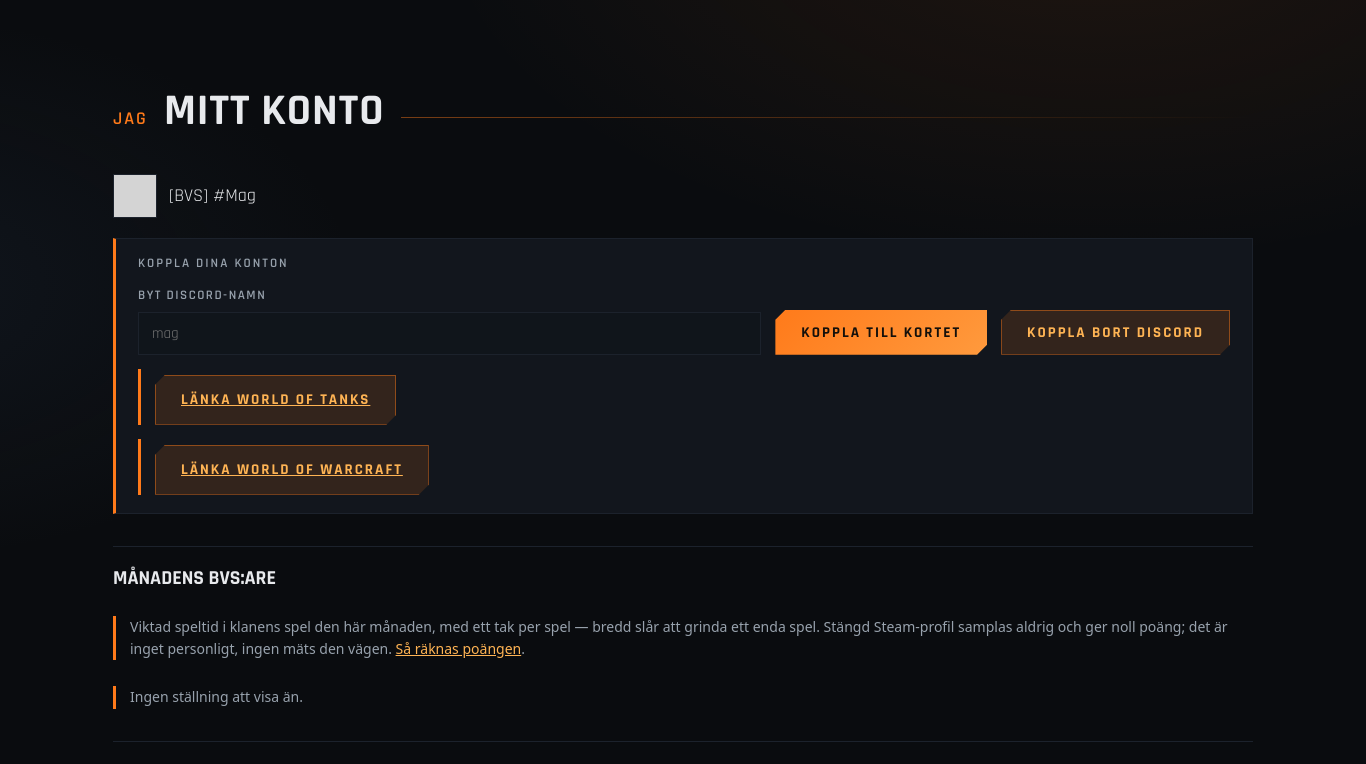
Test: unlinking a Discord name › says so when the server refused to unlink
Click the button "Koppla bort Discord" at (1116, 332), box top-left (1001, 310), bottom-right (1230, 355)
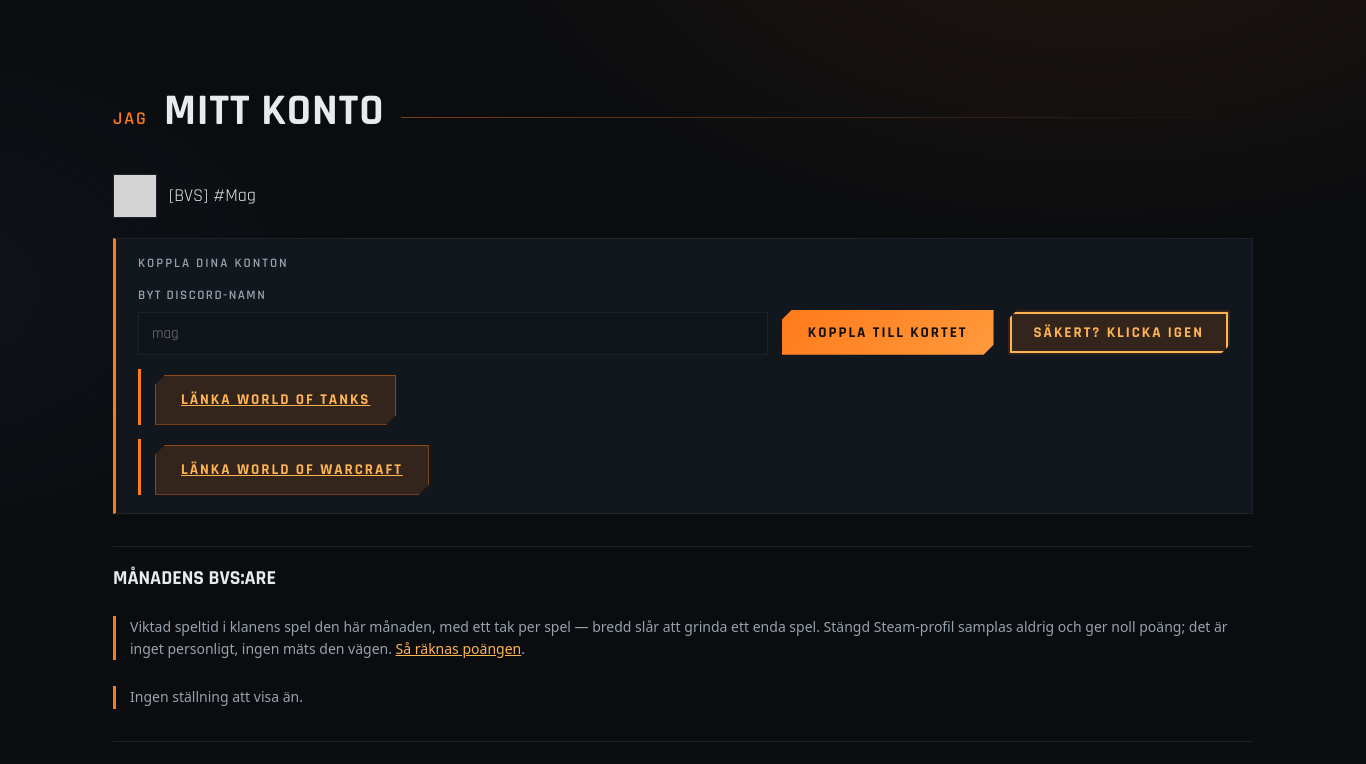
Click the button named "Koppla bort Discord" at (1119, 332), box top-left (1008, 310), bottom-right (1230, 355)
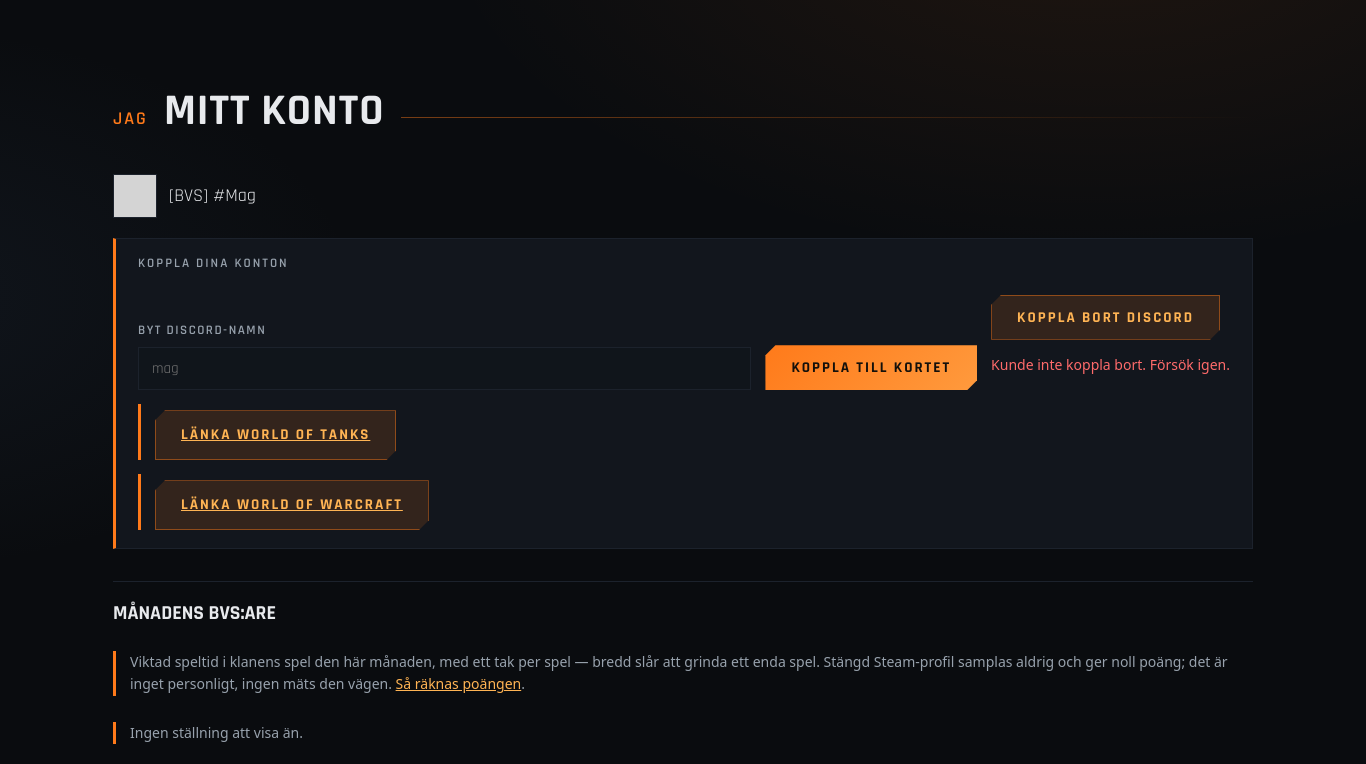
Now the text "Kunde inte koppla bort. Försök igen." is shown, box top-left (991, 354), bottom-right (1230, 376)
